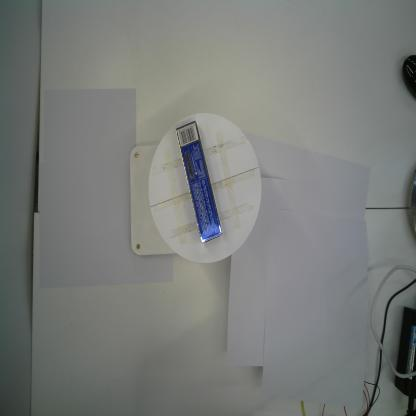Personal Hygiene: (175, 121, 223, 244)
